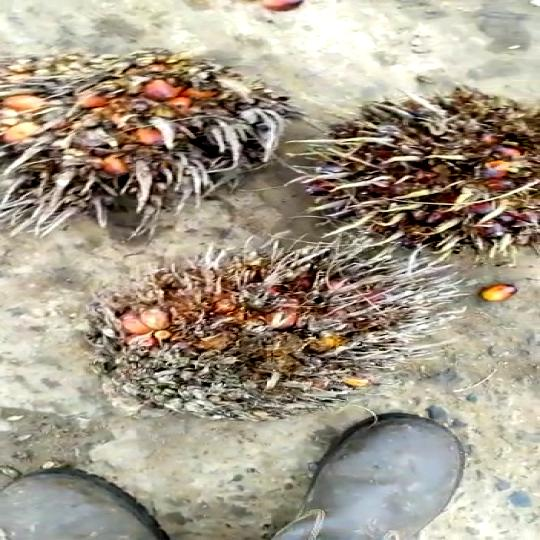terlalu masak: (0, 46, 309, 240), (284, 78, 540, 243), (499, 425, 510, 428)
